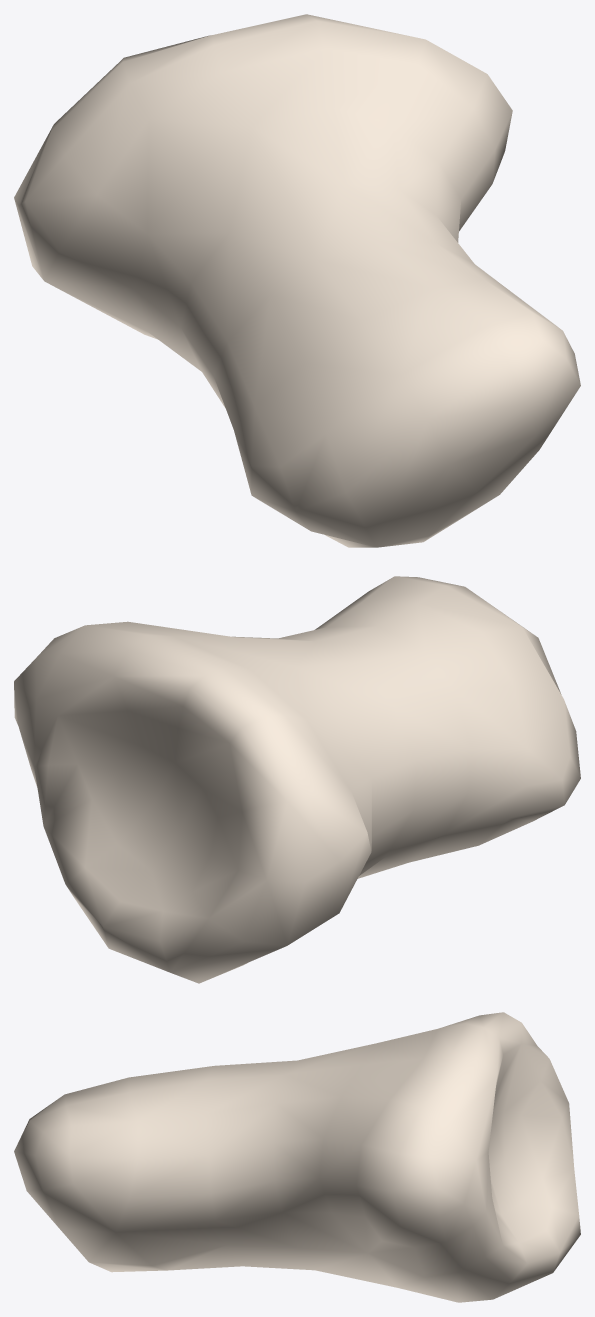
Rendered from right_toe_5_distal.glb.
3 renders of one model, top to bottom at view 1: azimuth 30°, elevation 25°; view 2: azimuth 150°, elevation 25°; view 3: azimuth 270°, elevation 25°, orthographic. The views are drawn at different scales.
Visible parts, largest first — view 1: Distal phalanx of fifth finger of foot.r; view 2: Distal phalanx of fifth finger of foot.r; view 3: Distal phalanx of fifth finger of foot.r.
Boxes of the visible parts, x1,y1,x2,y2 form: Distal phalanx of fifth finger of foot.r: (14,14,580,547); Distal phalanx of fifth finger of foot.r: (14,576,580,983); Distal phalanx of fifth finger of foot.r: (14,1012,580,1302).
Size of the model in its own units: 0.00669 by 0.00504 by 0.00992.
